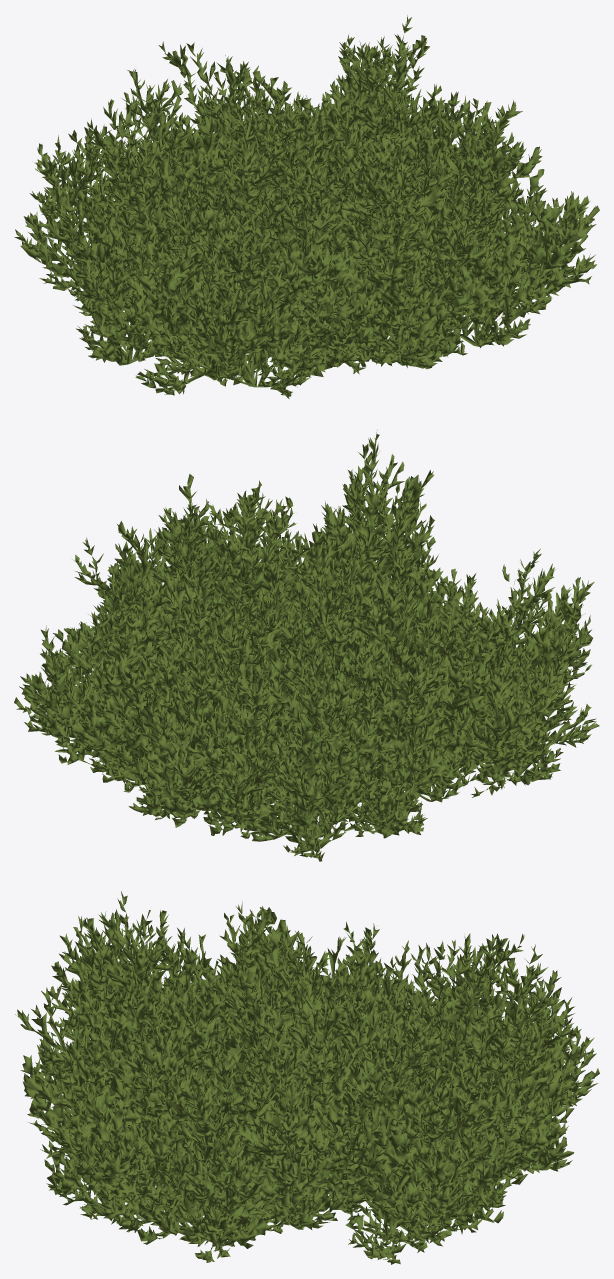
Rendered from watershrub.glb.
3 renders of one model, top to bottom at view 1: azimuth 30°, elevation 25°; view 2: azimuth 150°, elevation 25°; view 3: azimuth 270°, elevation 25°, orthographic. The views are drawn at different scales.
Size of the model in its own units: 1.89 by 0.9341 by 1.87.
1 material, 1 textured.
